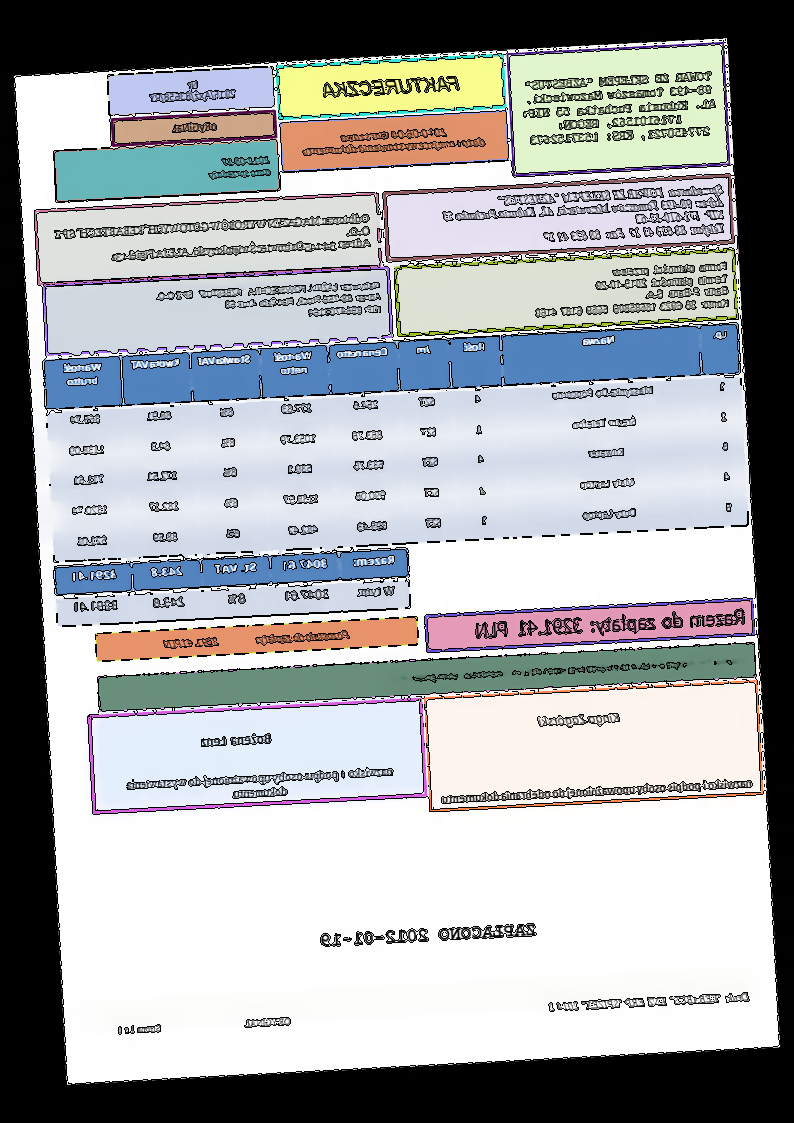Table: (42, 321, 749, 563), (54, 546, 412, 628)
TextBox: (441, 181, 727, 249), (53, 211, 373, 267), (520, 69, 720, 146), (530, 260, 731, 320), (387, 654, 749, 687), (154, 277, 385, 328), (125, 764, 395, 806), (442, 774, 755, 806), (474, 605, 746, 641), (299, 124, 488, 158), (319, 920, 537, 949), (546, 989, 752, 1015), (161, 627, 352, 653), (117, 1014, 293, 1037), (320, 72, 462, 100), (146, 76, 238, 105), (536, 708, 623, 730), (207, 153, 272, 181), (198, 731, 273, 750), (170, 119, 219, 135)
